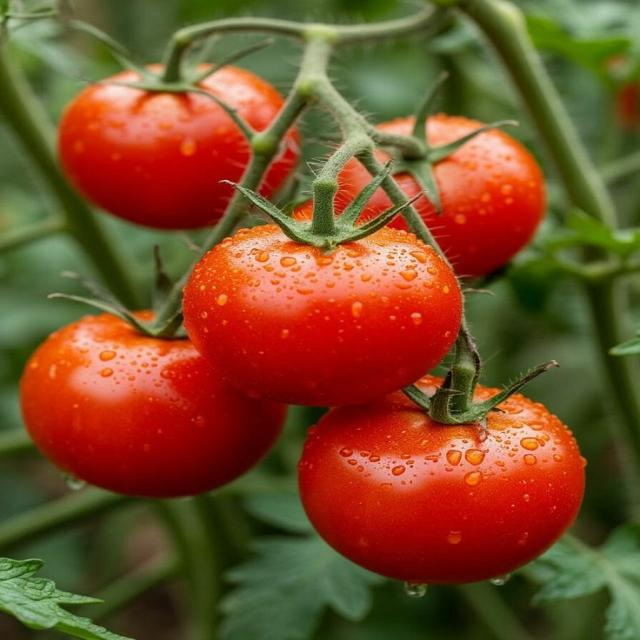tomato: (300, 394, 585, 583), (183, 225, 462, 405), (21, 314, 285, 497), (58, 71, 251, 229), (414, 130, 546, 277), (616, 81, 639, 129)
